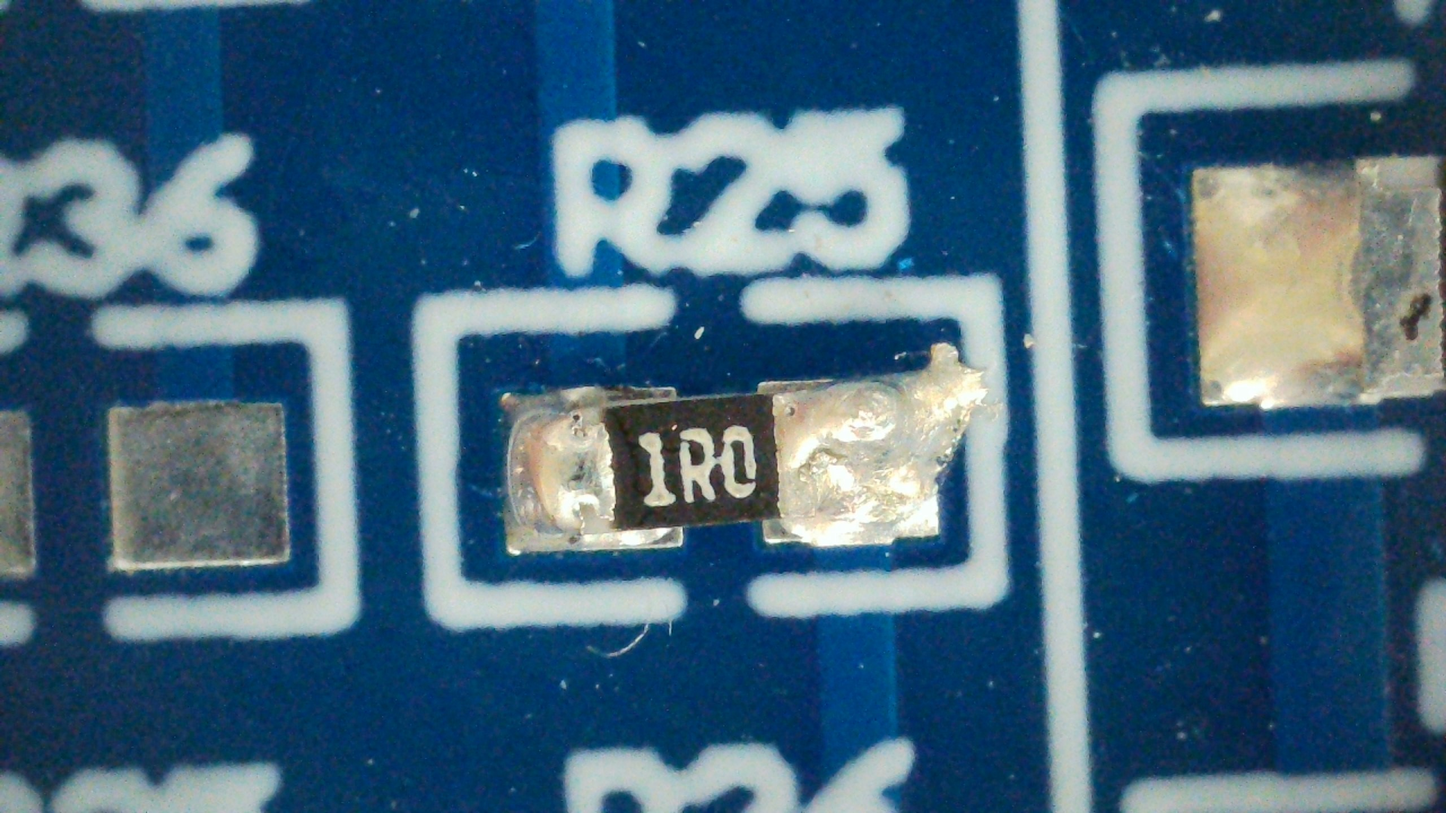NG: (500, 344, 986, 551)
